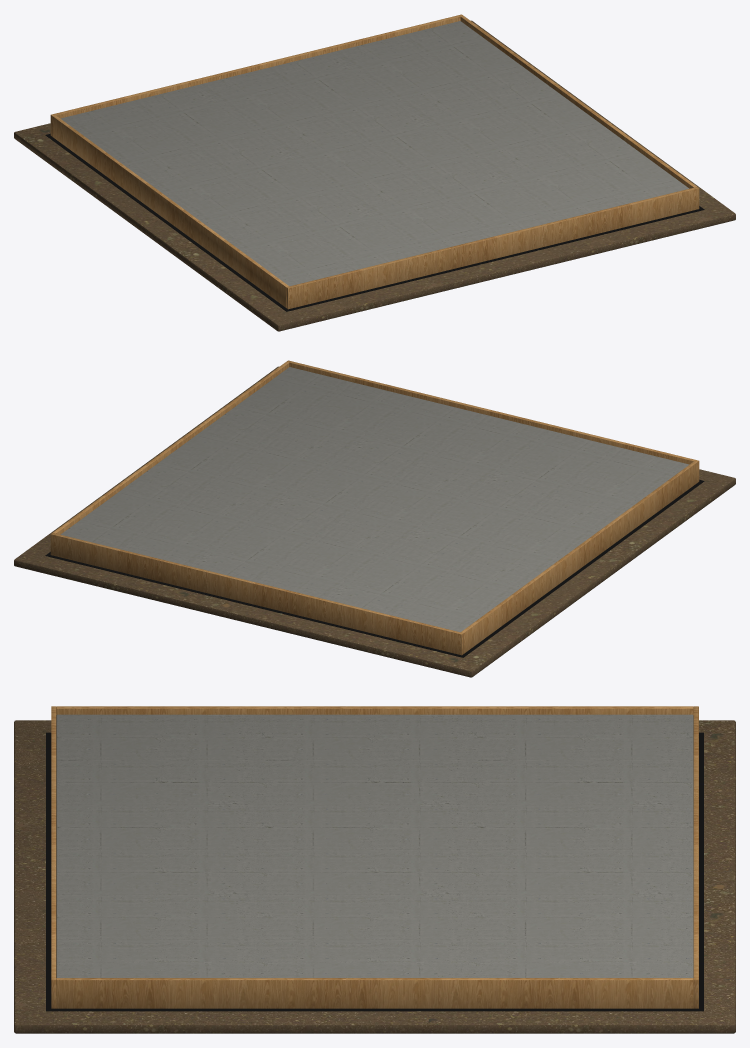
The model's file is KIT-FUN-04.glb.
3 views of the same model, one above another, from view 1: azimuth 30°, elevation 25°; view 2: azimuth 150°, elevation 25°; view 3: azimuth 270°, elevation 25° (orthographic). The views are drawn at different scales.
Parts seen in each view (by area): view 1: KIT-FUN-04_concreto, KIT-FUN-04_solo, KIT-FUN-04_tabua, KIT-FUN-04_tabua.002, KIT-FUN-04_tabua.001, KIT-FUN-04_lona, KIT-FUN-04_tabua.003; view 2: KIT-FUN-04_concreto, KIT-FUN-04_solo, KIT-FUN-04_tabua.001, KIT-FUN-04_tabua.002, KIT-FUN-04_tabua, KIT-FUN-04_lona, KIT-FUN-04_tabua.003; view 3: KIT-FUN-04_concreto, KIT-FUN-04_solo, KIT-FUN-04_tabua.003, KIT-FUN-04_tabua.002, KIT-FUN-04_lona, KIT-FUN-04_tabua, KIT-FUN-04_tabua.001.
Boxes of the visible parts, box(x1,y1,x2,y2) form: KIT-FUN-04_concreto: box(60, 21, 688, 286); KIT-FUN-04_solo: box(14, 20, 735, 331); KIT-FUN-04_tabua: box(286, 187, 699, 309); KIT-FUN-04_tabua.002: box(52, 115, 288, 307); KIT-FUN-04_tabua.001: box(50, 14, 463, 136); KIT-FUN-04_lona: box(45, 133, 704, 311); KIT-FUN-04_tabua.003: box(460, 16, 696, 188); KIT-FUN-04_concreto: box(61, 367, 689, 632); KIT-FUN-04_solo: box(14, 366, 735, 677); KIT-FUN-04_tabua.001: box(50, 533, 463, 655); KIT-FUN-04_tabua.002: box(461, 461, 697, 653); KIT-FUN-04_tabua: box(286, 360, 699, 482); KIT-FUN-04_lona: box(45, 479, 704, 657); KIT-FUN-04_tabua.003: box(53, 362, 289, 534); KIT-FUN-04_concreto: box(56, 714, 693, 977); KIT-FUN-04_solo: box(14, 720, 735, 1033); KIT-FUN-04_tabua.003: box(56, 978, 693, 1008); KIT-FUN-04_tabua.002: box(56, 706, 693, 715); KIT-FUN-04_lona: box(46, 732, 703, 1011); KIT-FUN-04_tabua: box(51, 706, 56, 1008); KIT-FUN-04_tabua.001: box(693, 706, 698, 1008).
Size of the model in its own units: 3.4 by 0.2001 by 3.4.
Materials: 6 (6 with a texture image).
